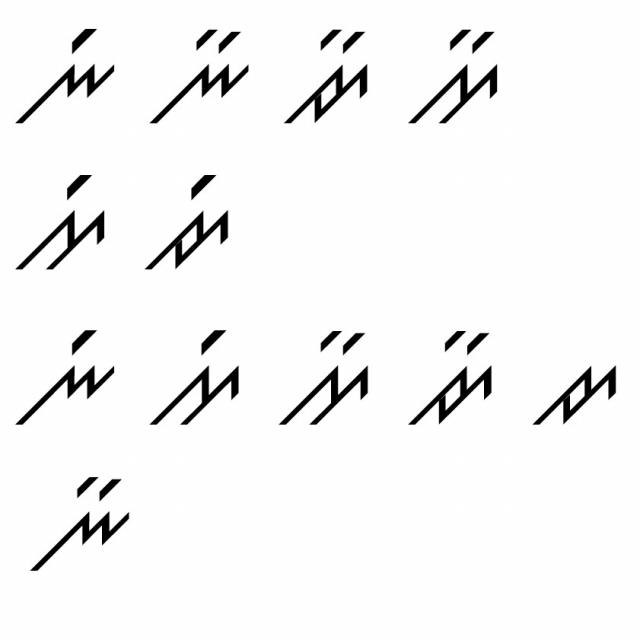jan: (274, 19, 384, 131), (395, 322, 498, 434)
jang: (140, 165, 236, 277)
nyan: (27, 470, 144, 578), (142, 27, 262, 126)
nyang: (11, 319, 117, 428)
sa: (519, 355, 625, 433)
san: (267, 315, 387, 435), (404, 26, 510, 137)
sang: (7, 26, 125, 127), (150, 323, 251, 434), (12, 168, 110, 276)
